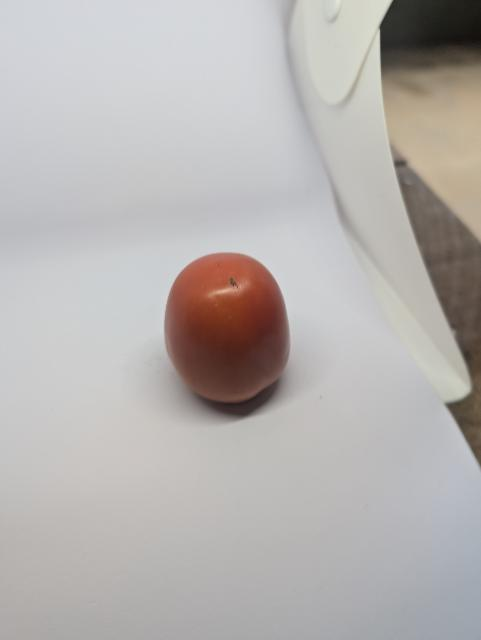red: (155, 246, 315, 418)
